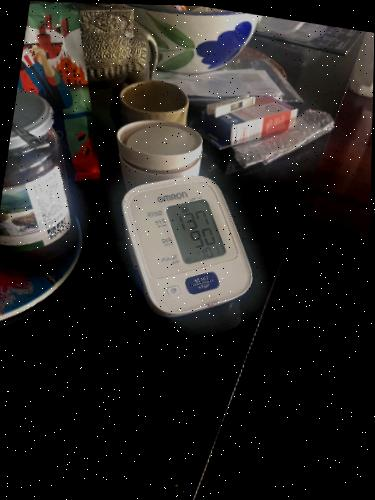bpm: (165, 192, 227, 268)
